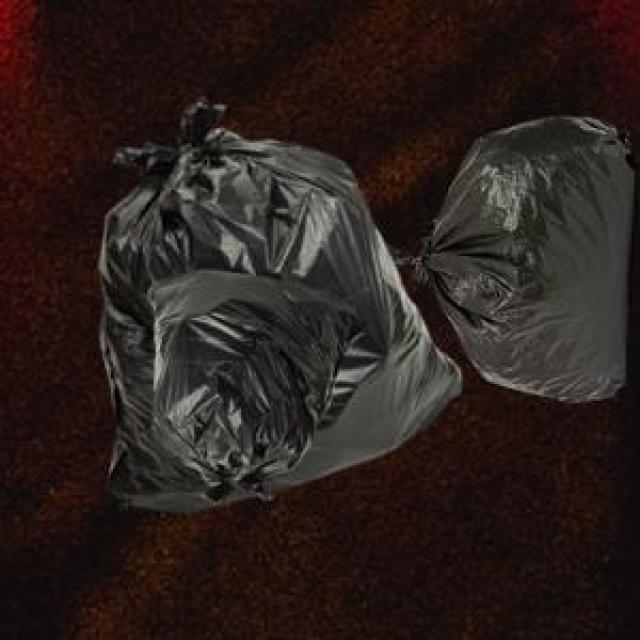waste: (100, 128, 461, 509), (416, 116, 632, 402)
